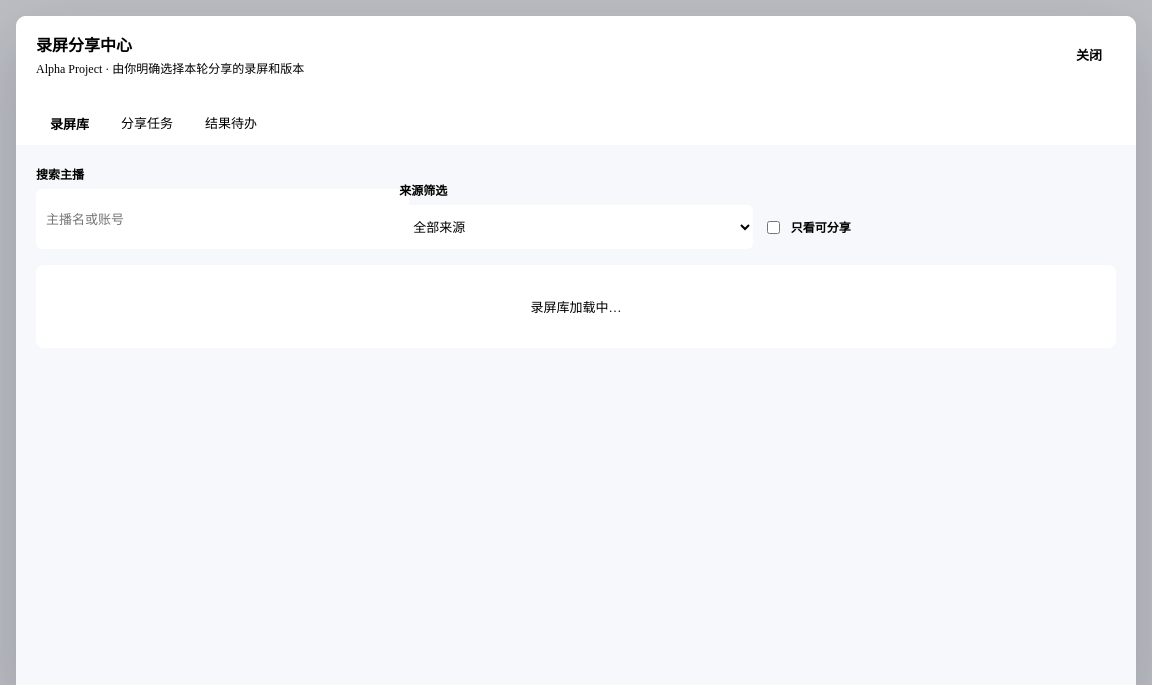
it: AdmissionShareCenter › clears stale load-more pending when a task action refreshes the first page
Step 1. Click the tab "分享任务" → x=147, y=123, box [107,101,187,145]
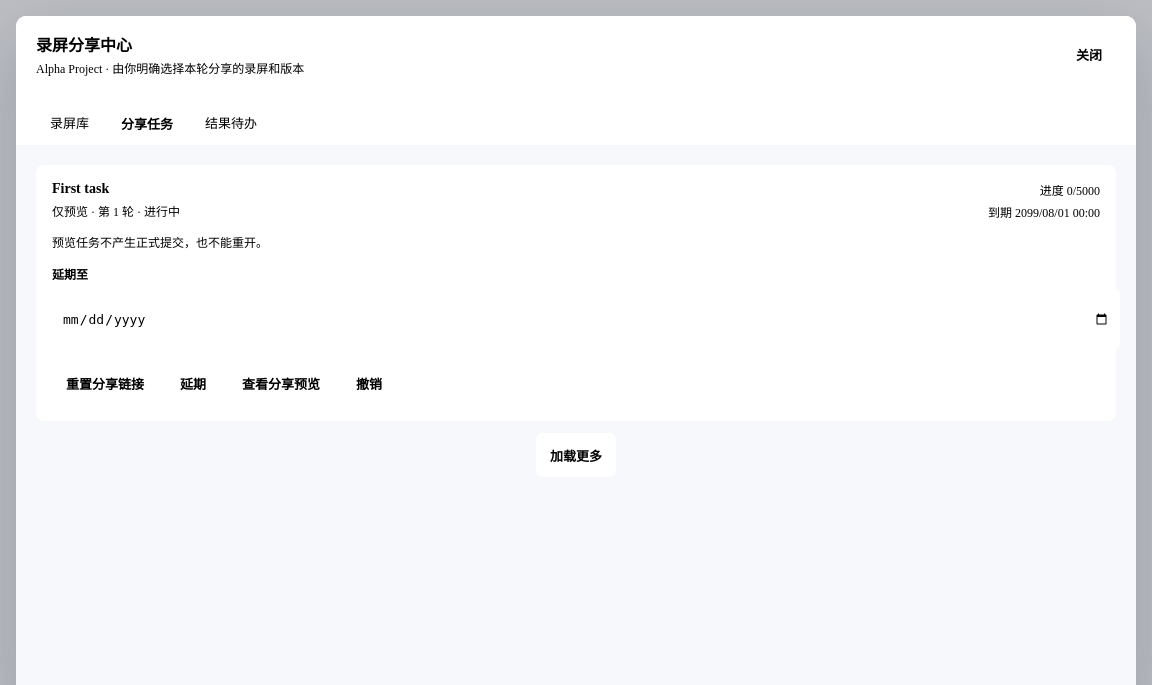
Step 2. Click the button with aria-label "加载更多分享任务" → x=576, y=455, box [536,433,616,477]
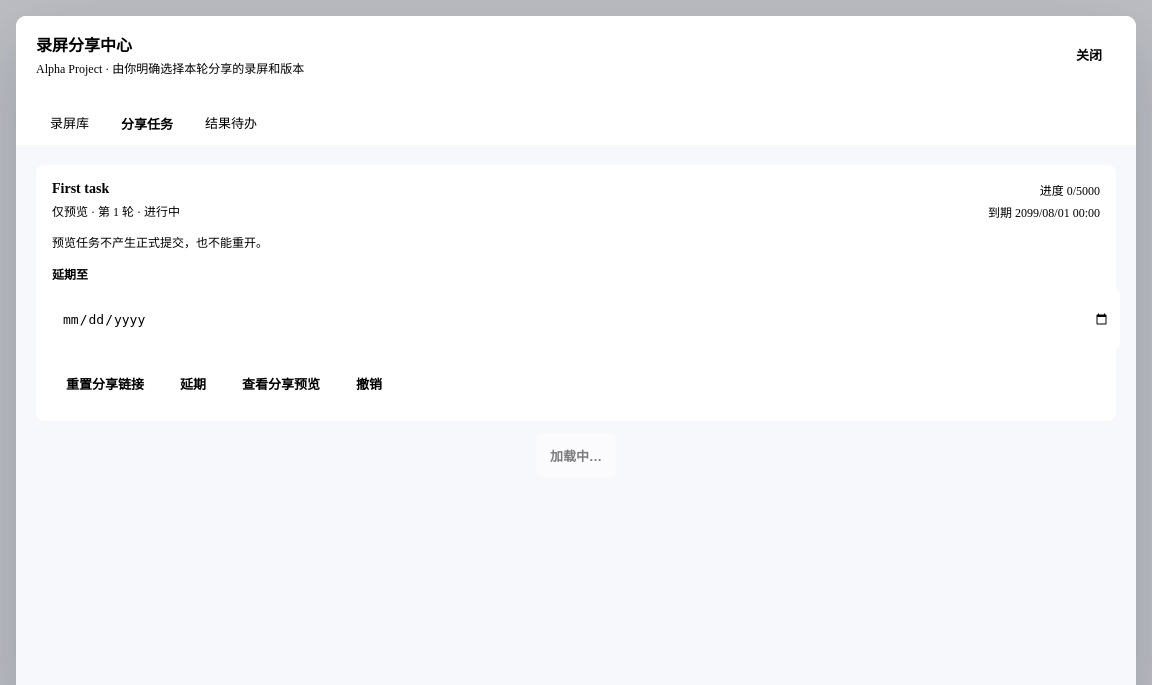
Result: the button with aria-label "加载更多分享任务" is disabled at [536,433,616,477]
Step 3. Type "2099-09-01" into the date field named "First task 延期至" → x=586, y=319, box [52,289,1120,349]
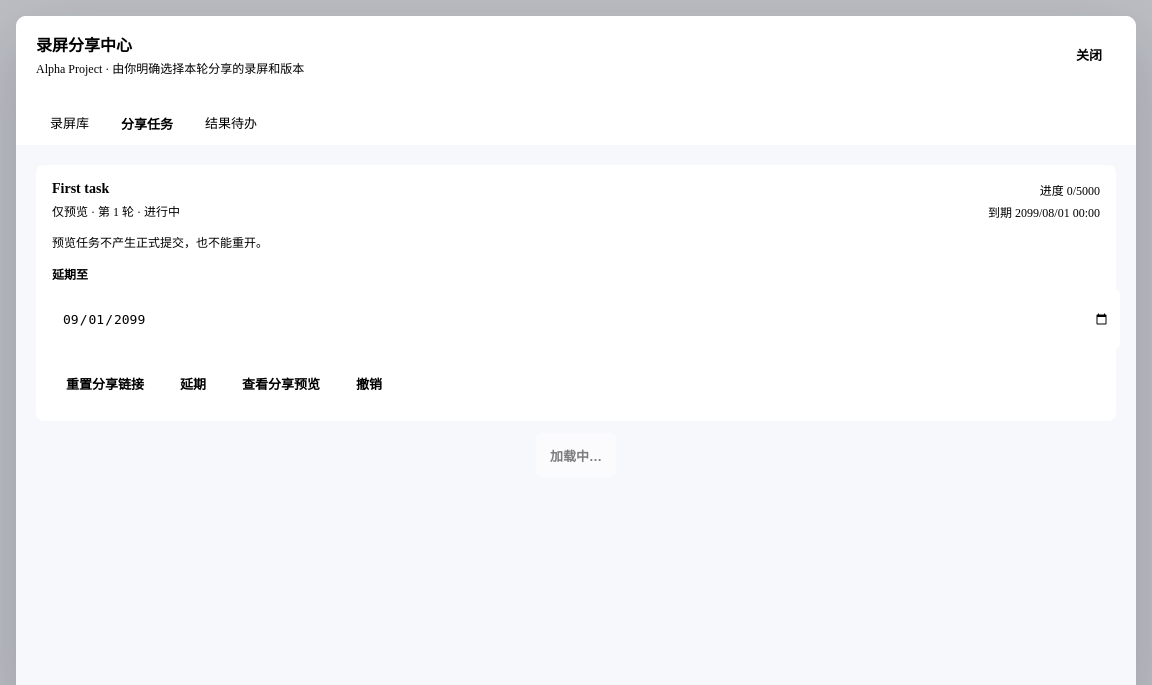
Step 4. Click the button with aria-label "延期 First task" → x=193, y=383, box [166,361,220,405]
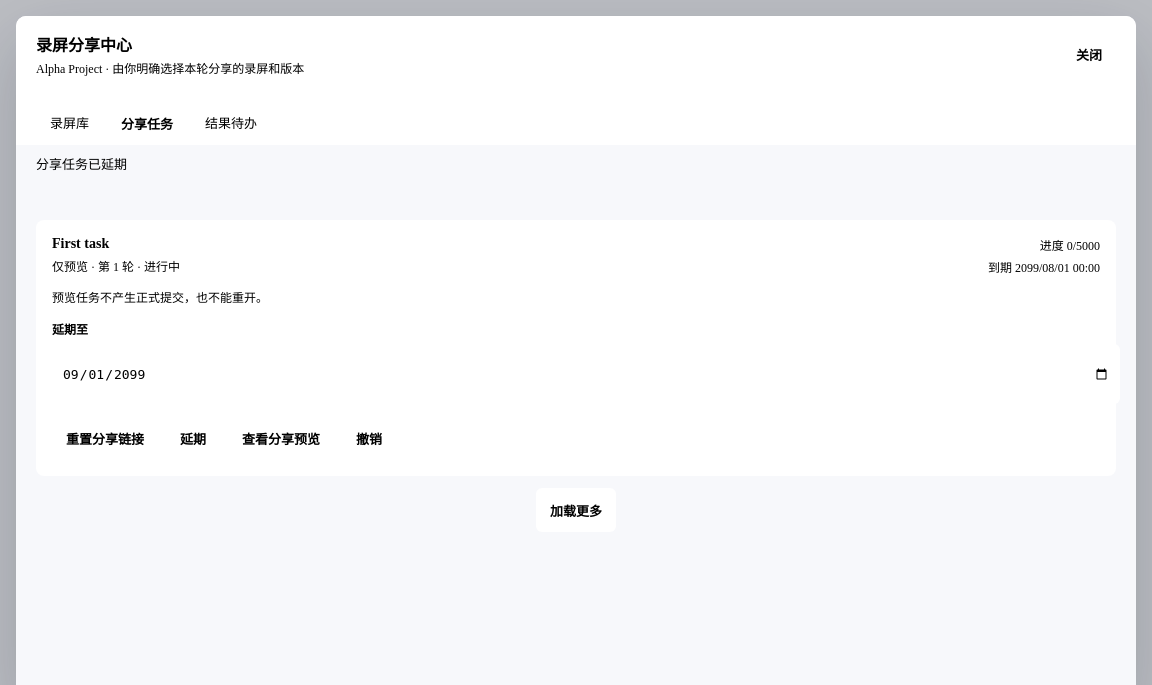
Result: the button with aria-label "加载更多分享任务" is enabled
Step 5. Click the button with aria-label "加载更多分享任务" → x=576, y=510, box [536,488,616,532]
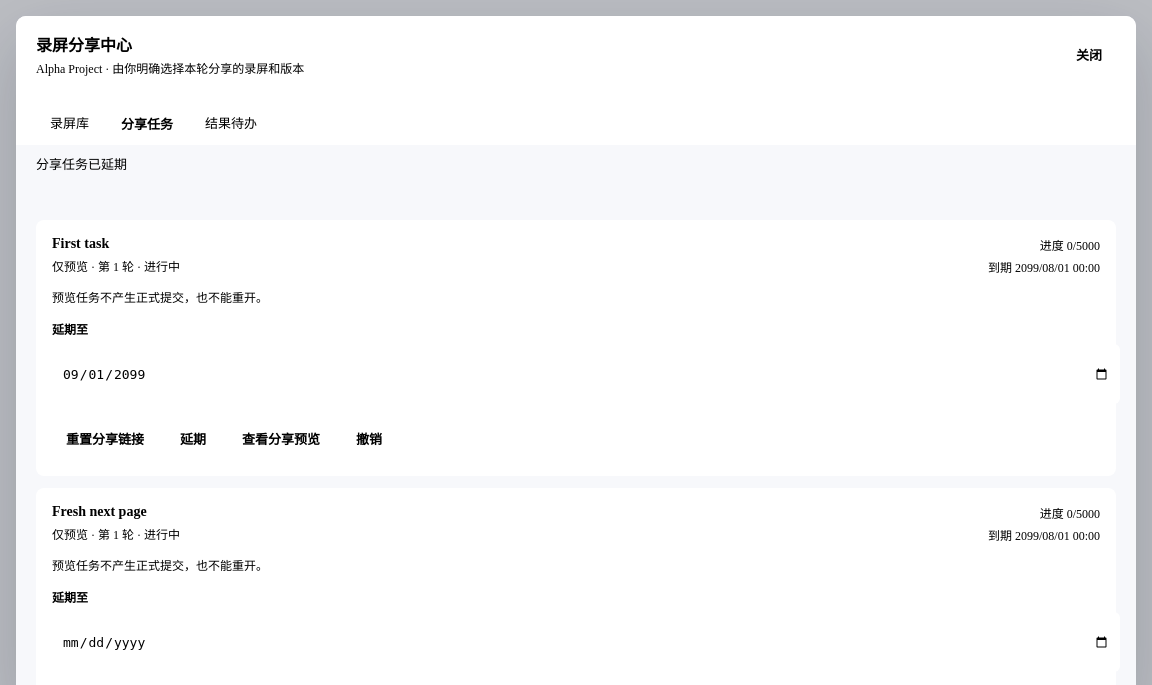
Result: the text "Fresh next page" is shown at [52,504,147,519]
